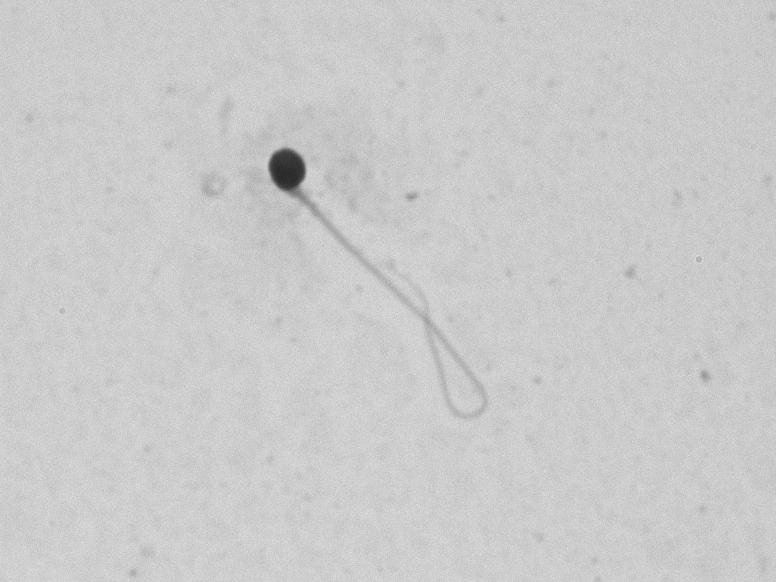Abnormal: (227, 108, 500, 452)
